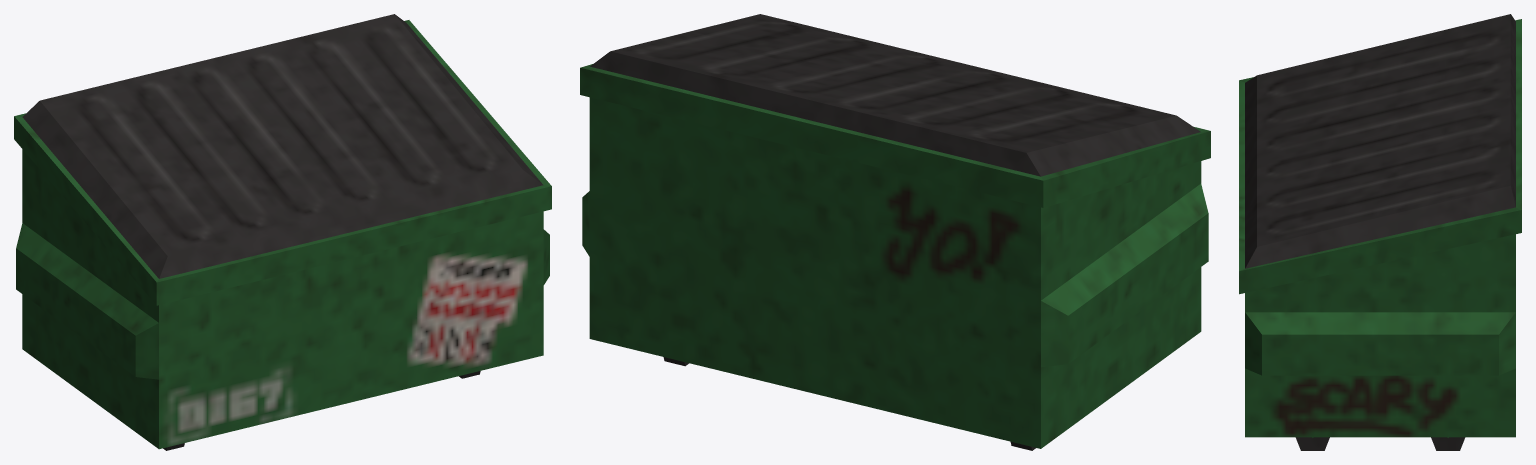
The model's file is garbage_container.fbx.
The picture shows the model from 3 angles, left to right: view 1: azimuth 30°, elevation 25°; view 2: azimuth 150°, elevation 25°; view 3: azimuth 270°, elevation 25°; orthographic projection. The views are drawn at different scales.
Parts seen in each view (by area): view 1: мусорка; view 2: мусорка; view 3: мусорка.
Part boxes in pixels (<box>): мусорка: <box>14,14,551,450</box>; мусорка: <box>580,14,1210,450</box>; мусорка: <box>1239,14,1521,450</box>.
Bounding box in the file's own units: 28 × 17.95 × 16.71.
